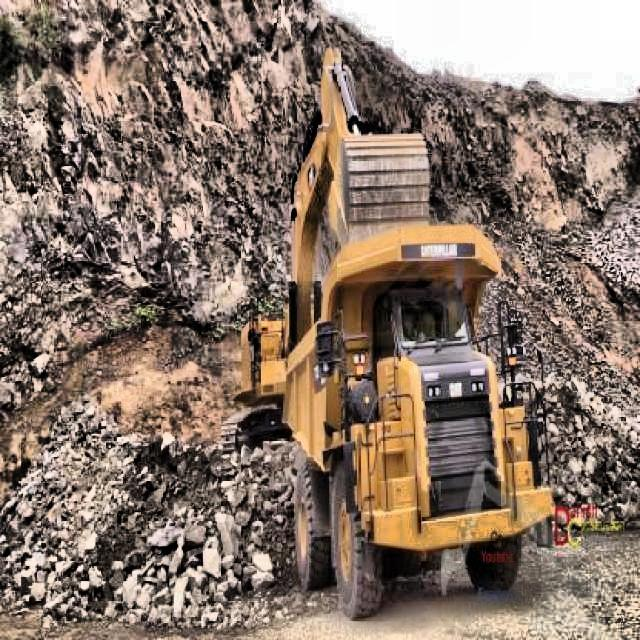dump_truck: (282, 224, 552, 620)
excavator: (222, 48, 429, 458)
